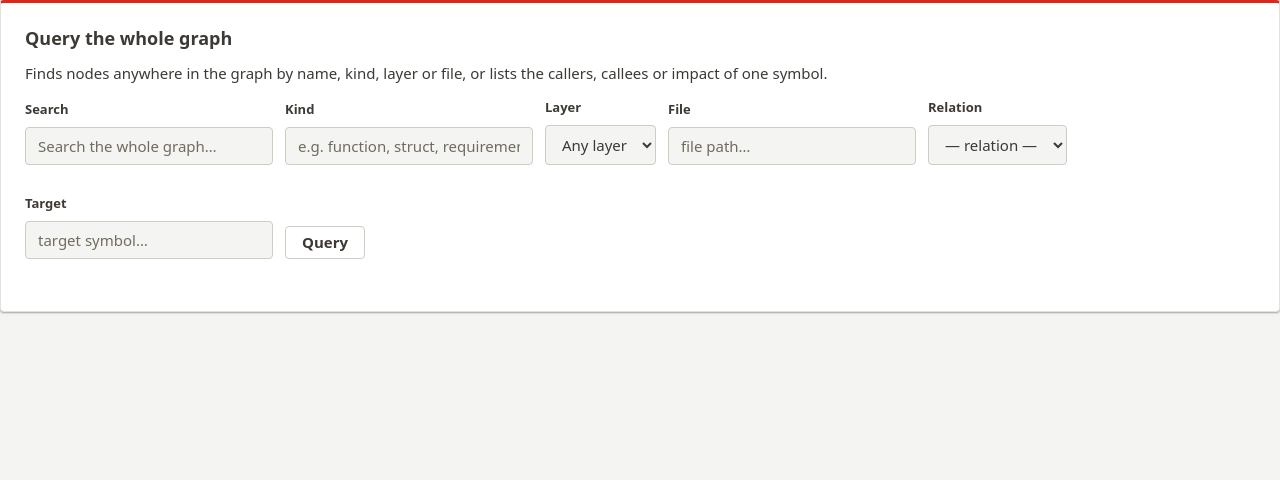
relational query hits (S-712) › labels a hit reached through a trait fan-out with its trait method, and no other
Select "Callers of" in the dropdown labelled "Relation": (998, 145) [928,125,1067,165]
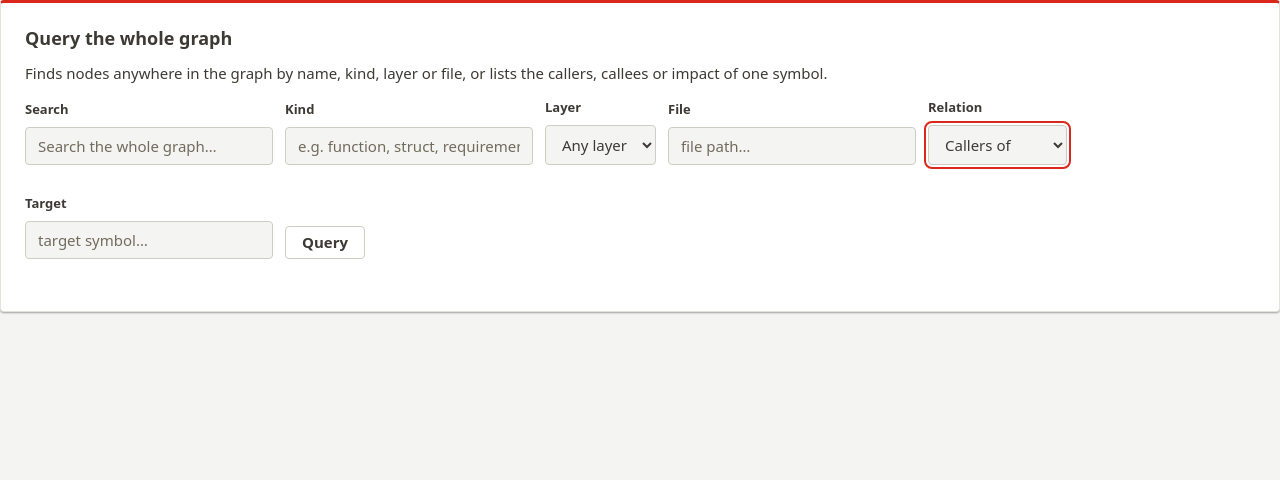
In the field labelled "Target": (149, 240) [25,221,273,259], type "m"
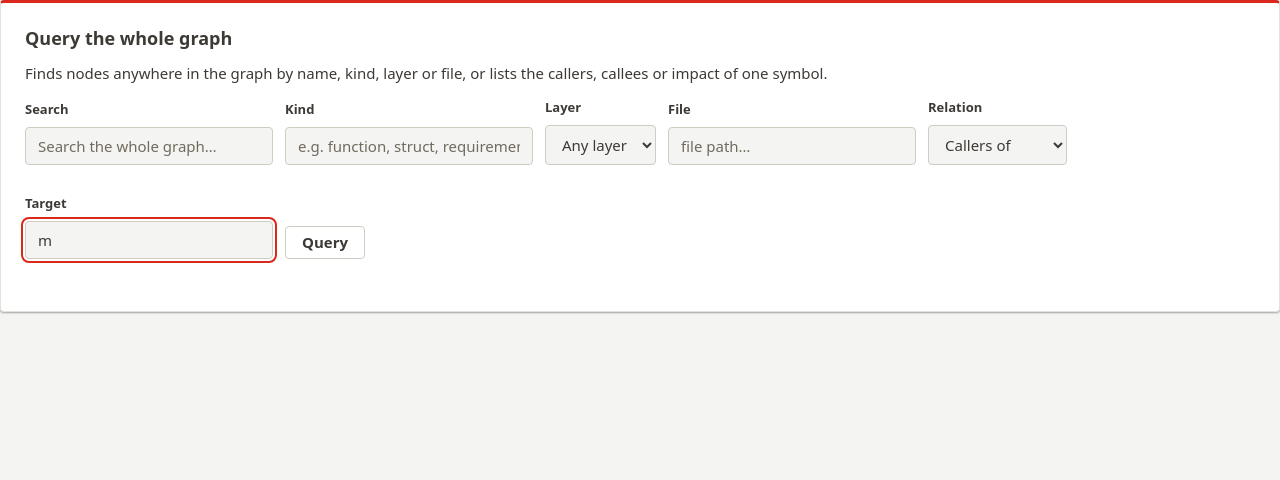
Click the button "Query": (325, 242) [285,226,365,259]
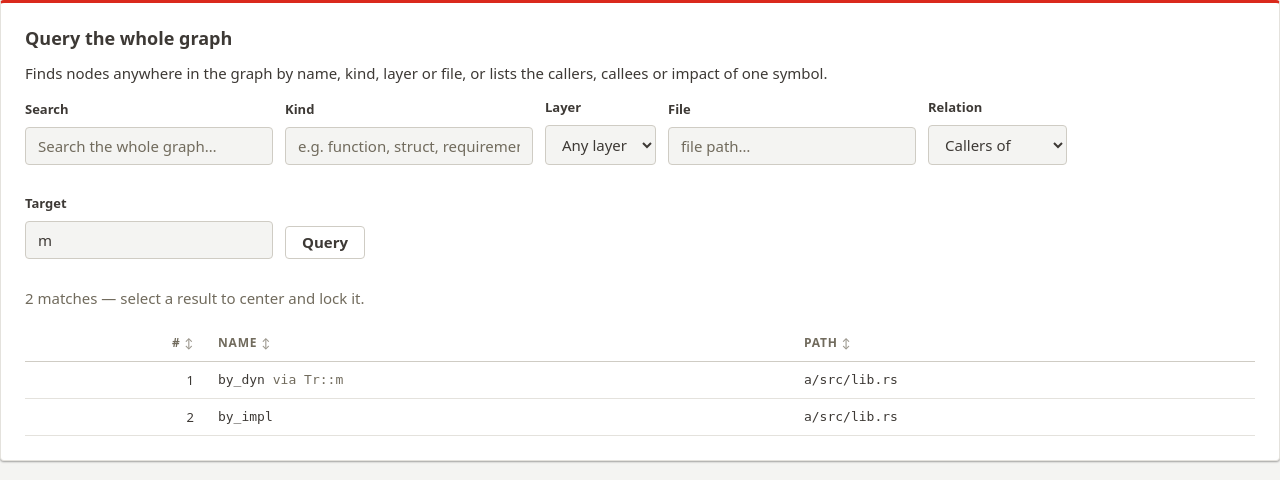
Check: the text "via Tr::m" is shown, box [265,372,343,387]
